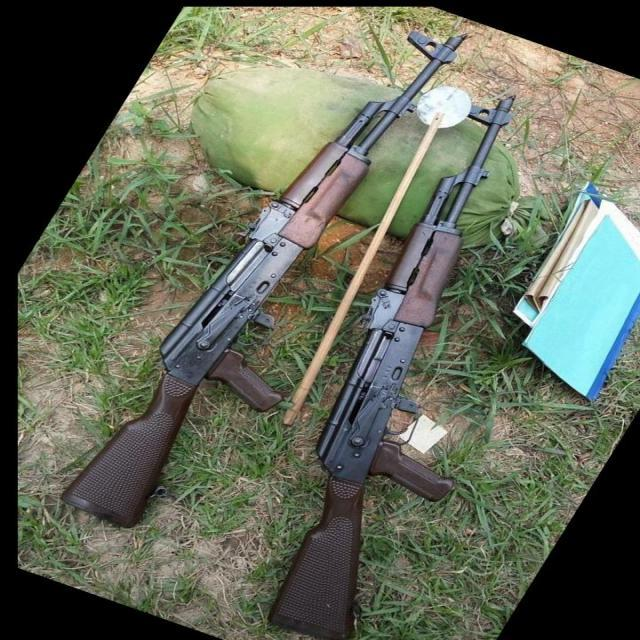weapon: (58, 31, 468, 530), (264, 92, 524, 640)
